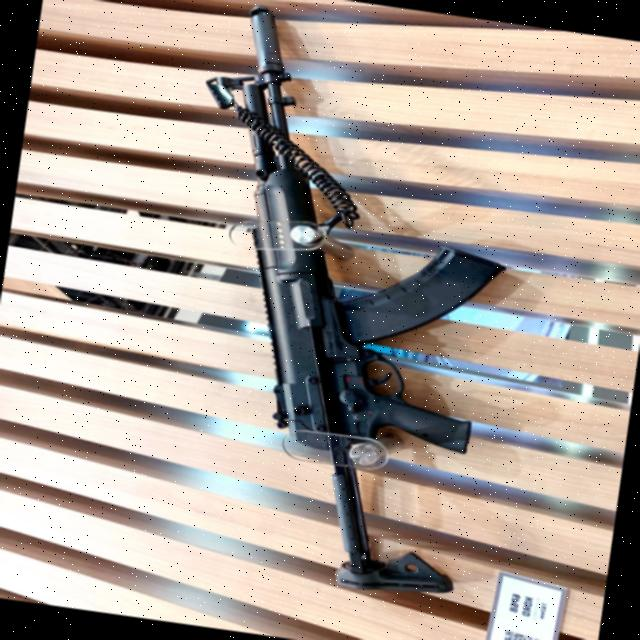Automaticrifle: (128, 0, 549, 603)
